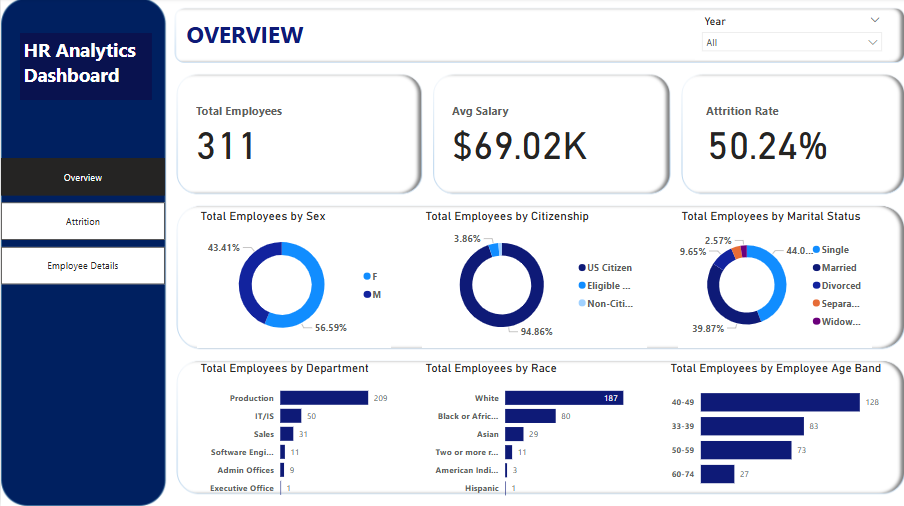

The dashboard page shown, as its layout file describes it:
{"tool":"powerbi","page":{"name":"Overview","canvas":[1280,720],"ordinal":0},"visuals":[{"type":"cardVisual","fields":{"Data":["_measures.Total Employees"]},"box":[258.7,129.3,168,129.3],"z":0},{"type":"cardVisual","fields":{"Data":["_measures.Avg Salary"]},"box":[621.5,129.3,243.6,129.3],"z":1000},{"type":"cardVisual","fields":{"Data":["_measures.Attrition Rate"]},"box":[982.7,129.3,252,129.3],"z":2000},{"type":"donutChart","fields":{"Y":["_measures.Total Employees"],"Category":["HRDataset.Sex"]},"box":[277.2,299,275.5,196.5],"z":3000},{"type":"donutChart","fields":{"Y":["_measures.Total Employees"],"Category":["HRDataset.CitizenDesc"]},"box":[596.3,299,319.2,196.5],"z":4000},{"type":"donutChart","fields":{"Y":["_measures.Total Employees"],"Category":["HRDataset.MaritalDesc"]},"box":[959.2,299,275.5,196.5],"z":5000},{"type":"barChart","fields":{"Category":["HRDataset.Department"],"Y":["_measures.Total Employees"]},"box":[277.8,514.5,301.9,205.5],"z":6000},{"type":"barChart","title":"Total Employees by Race","fields":{"Category":["HRDataset.RaceDesc"],"Y":["_measures.Total Employees"]},"box":[596.3,514,302.4,206.6],"z":7000},{"type":"barChart","title":"Total Employees by Employee Age Band","fields":{"Y":["_measures.Total Employees"],"Category":["HRDataset.Employee Age Band"]},"box":[944,514,317.5,193.2],"z":8000},{"type":"slicer","fields":{"Values":["Date Table.Year"]},"box":[983.2,18.6,274.9,69.1],"z":9000},{"type":"textbox","box":[258,23.6,188.9,60.7],"z":10000},{"type":"pageNavigator","box":[0,226.8,232.4,181.4],"z":11000},{"type":"textbox","box":[26.9,49.6,187.1,95],"z":11001}]}

Visuals, with their boxes on the page's 1280x720 design canvas (x1, y1, x2, y2). These are canvas units, not pixel positions in the 904x506 screenshot, which may show the page scaled, cropped or inside an application window:
cardVisual - _measures.Total Employees: <box>259,129,427,259</box>
cardVisual - _measures.Avg Salary: <box>622,129,865,259</box>
cardVisual - _measures.Attrition Rate: <box>983,129,1235,259</box>
donutChart - _measures.Total Employees x HRDataset.Sex: <box>277,299,553,496</box>
donutChart - _measures.Total Employees x HRDataset.CitizenDesc: <box>596,299,916,496</box>
donutChart - _measures.Total Employees x HRDataset.MaritalDesc: <box>959,299,1235,496</box>
barChart - HRDataset.Department x _measures.Total Employees: <box>278,514,580,720</box>
"Total Employees by Race" barChart: <box>596,514,899,721</box>
"Total Employees by Employee Age Band" barChart: <box>944,514,1262,707</box>
slicer - Date Table.Year: <box>983,19,1258,88</box>
textbox: <box>258,24,447,84</box>
pageNavigator: <box>0,227,232,408</box>
textbox: <box>27,50,214,145</box>
